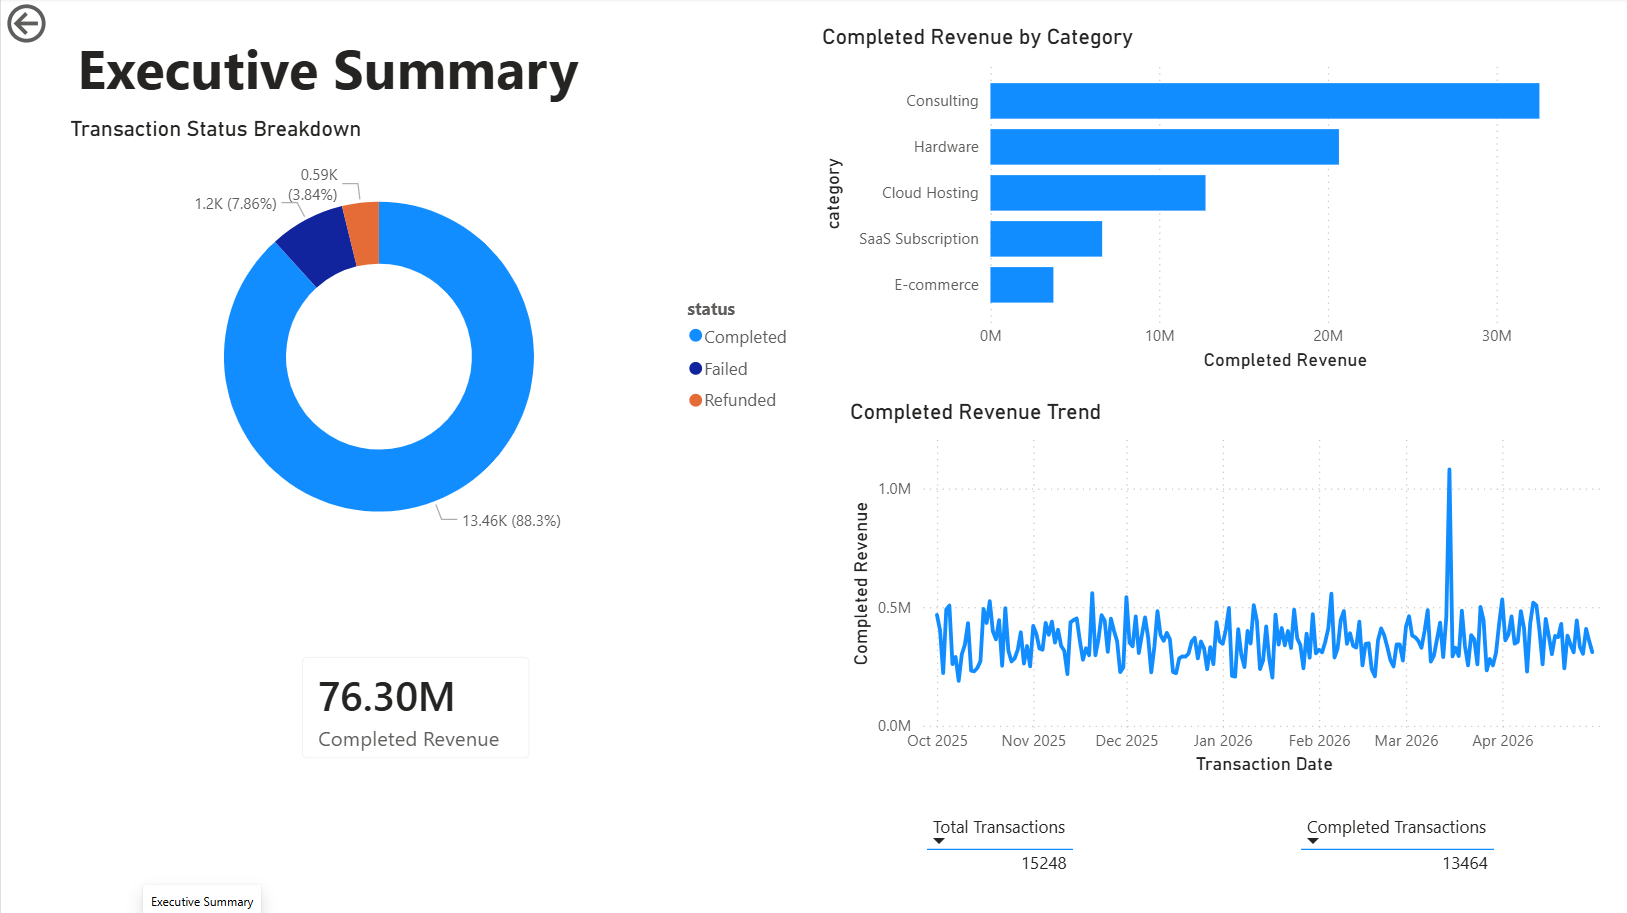

The dashboard page shown, as its layout file describes it:
{"tool":"powerbi","page":{"name":"Executive Summary","canvas":[1280,720],"ordinal":0},"visuals":[{"type":"actionButton","box":[0,0,100,40],"z":0},{"type":"tableEx","fields":{"Values":["CountNonNull(transactions.transaction_id)"]},"box":[720.7,636.1,186.7,79.8],"z":1000},{"type":"cardVisual","fields":{"Data":["Sum(transactions.amount)"]},"box":[218.8,499.9,213,114.8],"z":2000},{"type":"donutChart","title":"Transaction Status Breakdown","fields":{"Category":["transactions.status"],"Y":["CountNonNull(transactions.transaction_id)"]},"box":[49.6,92.4,582.6,358.9],"z":3000},{"type":"lineChart","title":"Completed Revenue Trend","fields":{"Y":["Sum(transactions.amount)"],"Category":["transactions.transaction_date"]},"box":[662.4,315.1,617.6,299.6],"z":4000},{"type":"clusteredBarChart","title":"Completed Revenue by Category","fields":{"Category":["transactions.category"],"Y":["Sum(transactions.amount)"]},"box":[640,20.4,617.6,276.2],"z":5000},{"type":"tableEx","fields":{"Values":["CountNonNull(transactions.transaction_id)"]},"box":[1014.5,636.1,195.5,63.2],"z":6000},{"type":"textbox","box":[49.6,20.4,414.3,72],"z":7000}]}

Visuals, with their boxes in screenshot pixels (x1, y1, x2, y2), scaled from the page's 1280x720 canvas onto the 1627x913 screenshot:
actionButton: l=0, t=0, r=127, b=51
tableEx - CountNonNull(transactions.transaction_id): l=916, t=807, r=1153, b=908
cardVisual - Sum(transactions.amount): l=278, t=634, r=549, b=779
"Transaction Status Breakdown" donutChart: l=63, t=117, r=804, b=572
"Completed Revenue Trend" lineChart: l=842, t=400, r=1626, b=779
"Completed Revenue by Category" clusteredBarChart: l=814, t=26, r=1599, b=376
tableEx - CountNonNull(transactions.transaction_id): l=1290, t=807, r=1538, b=887
textbox: l=63, t=26, r=590, b=117
